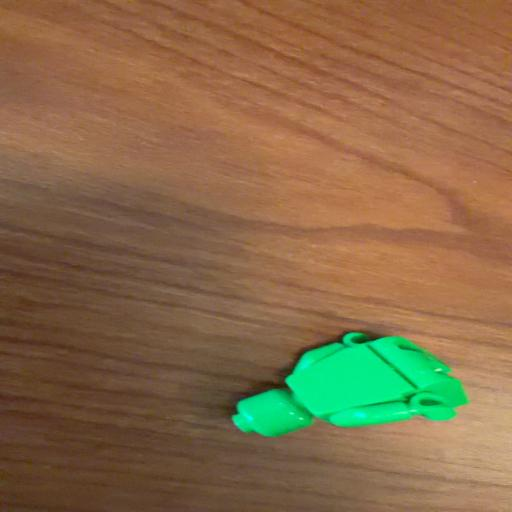UnoQ-minifig-detector: (233, 333, 467, 436)
